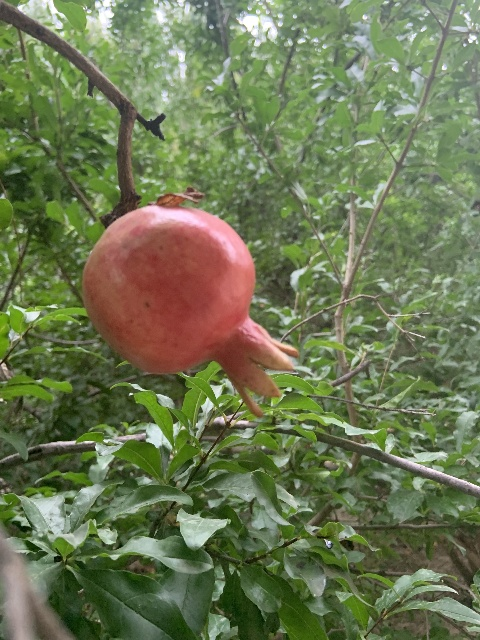ripe: (81, 205, 299, 416)
